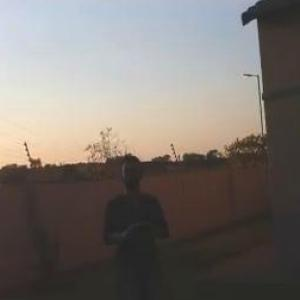follow: (97, 144, 182, 299)
